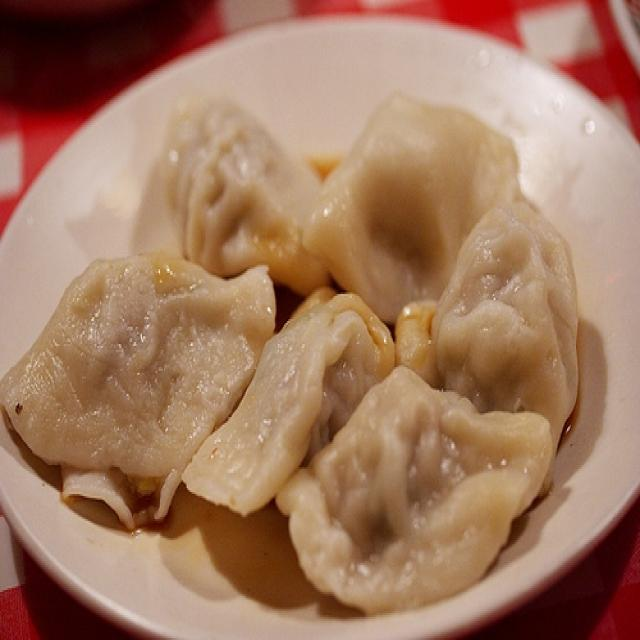带馅早点: (18, 58, 598, 607)
